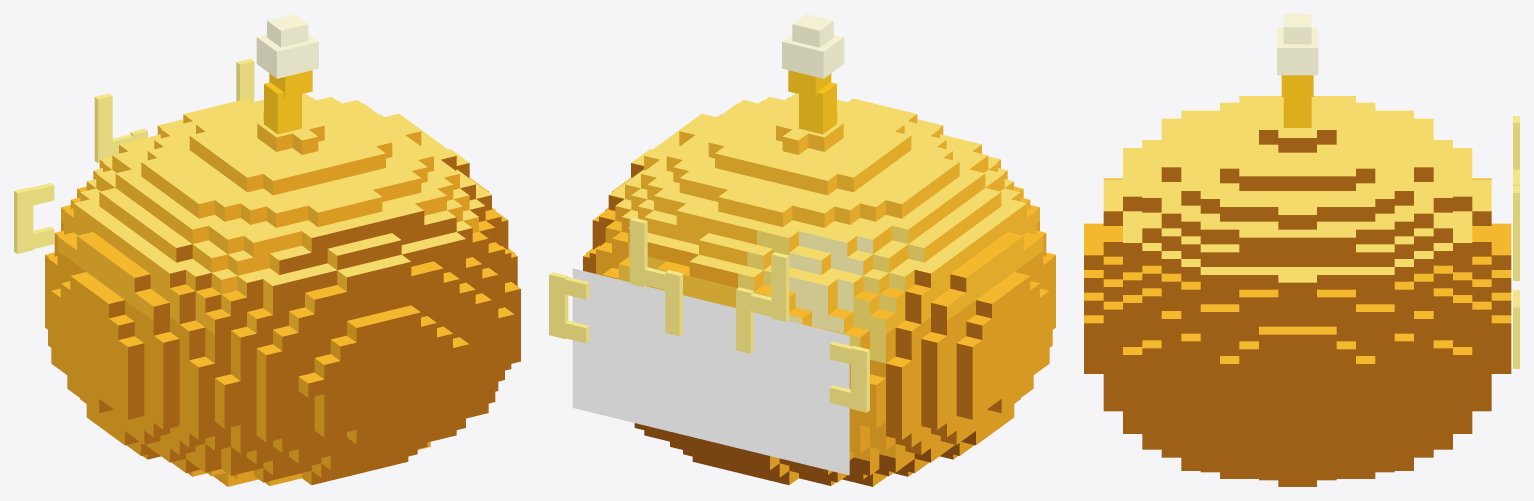
File: slime_electro_large.glb
3 views of the same model, side by side, from view 1: azimuth 30°, elevation 25°; view 2: azimuth 150°, elevation 25°; view 3: azimuth 270°, elevation 25° (orthographic).
Parts seen in each view (by area): view 1: Shell, ElectroDetails; view 2: Shell, Face, ElectroDetails; view 3: Shell, ElectroDetails.
Part boxes in pixels (<box>): Shell: <box>45,93,520,486</box>; ElectroDetails: <box>14,14,318,253</box>; Shell: <box>583,93,1055,486</box>; Face: <box>572,268,849,475</box>; ElectroDetails: <box>549,14,869,412</box>; Shell: <box>1084,96,1511,486</box>; ElectroDetails: <box>1277,14,1519,368</box>.
Size of the model in its own units: 1.92 by 1.87 by 1.86.
